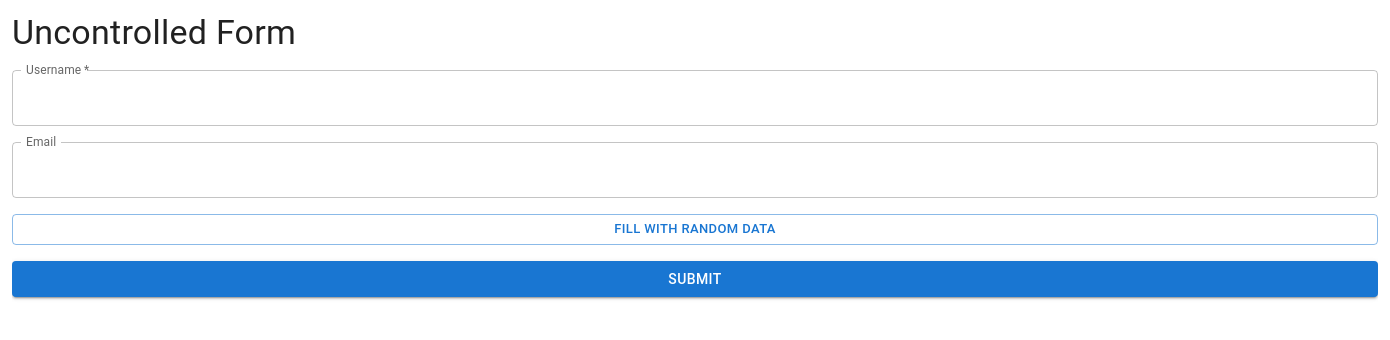
Test: Uncontrolled Form › email field wrong format
Enter a wrong formatted email address
Type "john.doe@example" into the field labelled "Email".
click(695, 170); type("john.doe@example")  # box [12,142,1378,198]
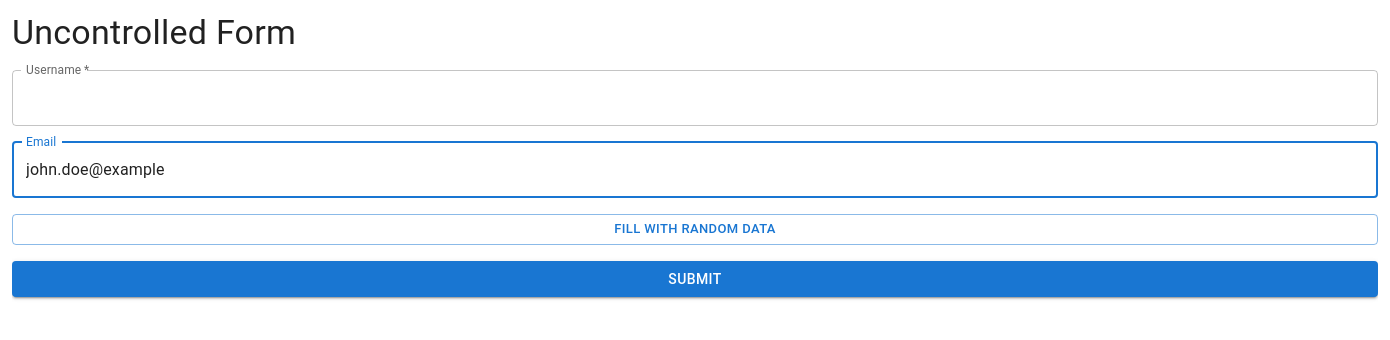
Submit the form without filling required field
Click the button "Submit".
click(695, 279)  # box [12,261,1378,297]
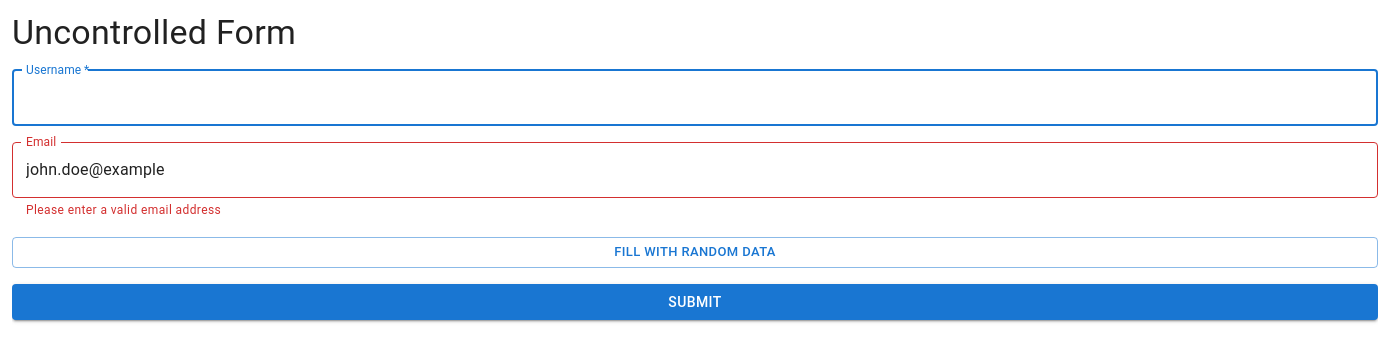
Type an email address with the correct format
Type ".com" into the field labelled "Email".
click(695, 170); type(".com")  # box [12,142,1378,198]
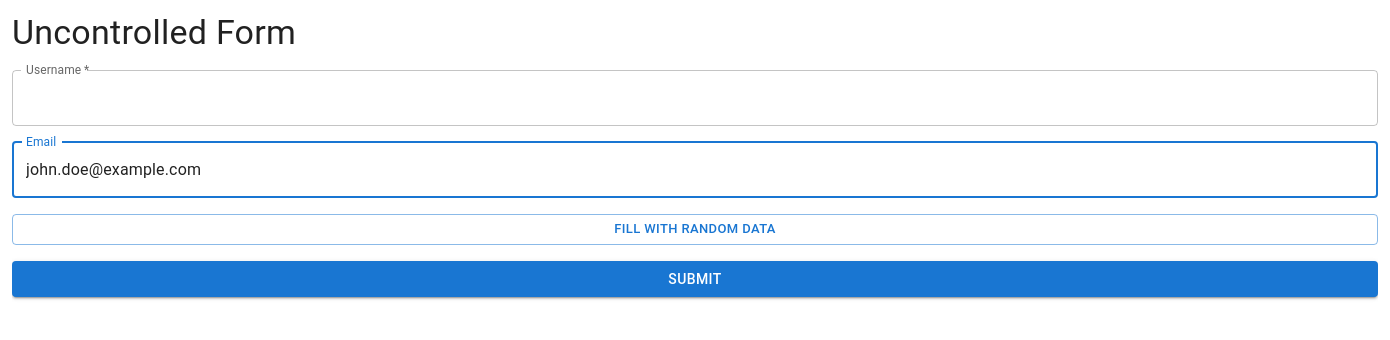
Now the field labelled "Email" holds "john.doe@example.com", box [12,142,1378,198]
